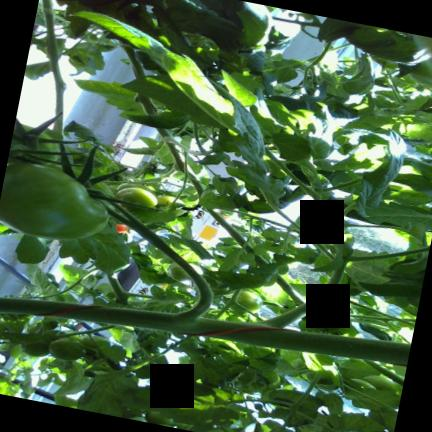6kp_peduncle: (142, 260, 243, 342)
6kp_petiole: (196, 296, 360, 360)
MainStem: (0, 298, 411, 366), (43, 0, 65, 134), (207, 209, 245, 248), (155, 128, 185, 173), (275, 275, 306, 305)
tomato: (0, 164, 113, 240), (22, 125, 59, 159), (115, 187, 157, 207), (48, 338, 85, 360), (361, 375, 397, 393), (235, 290, 263, 312), (156, 195, 185, 216), (409, 64, 432, 88), (145, 411, 174, 426), (22, 342, 49, 357), (344, 378, 375, 389), (117, 183, 152, 192), (128, 416, 147, 422), (116, 224, 128, 233), (70, 335, 83, 342)
